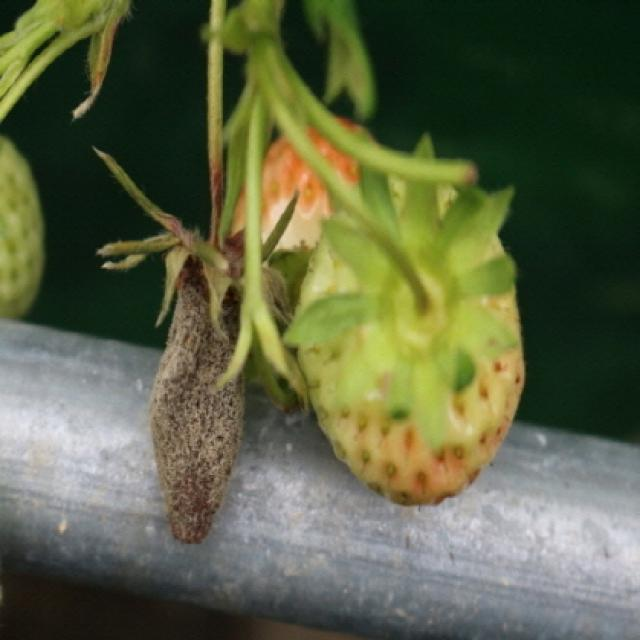Gray Mold: (148, 236, 247, 546)
